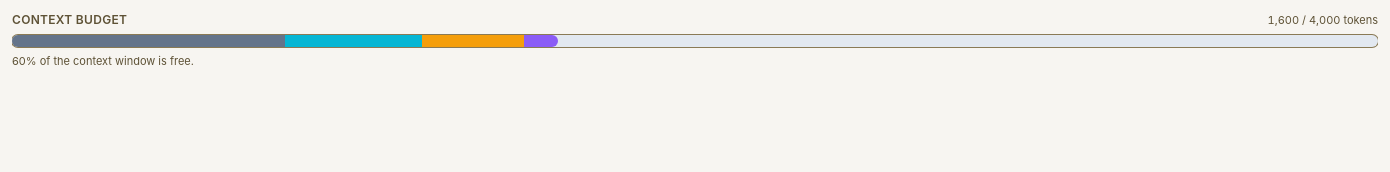
Test: TokenBudgetBar (JGF-128) › opens the breakdown card on mouse enter
The width and height of the screenshot is (1390, 172).
Hover over the button with test id "budget-segment-seed" at [149, 40], box [12, 34, 285, 46]
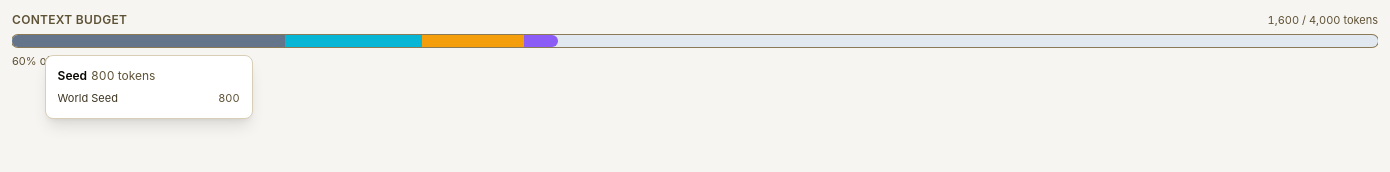
Check: the tooltip with test id "budget-breakdown-seed" shows "World Seed", box [58, 90, 118, 104]
Move the pointer off the button with test id "budget-segment-seed", box [12, 34, 285, 46]
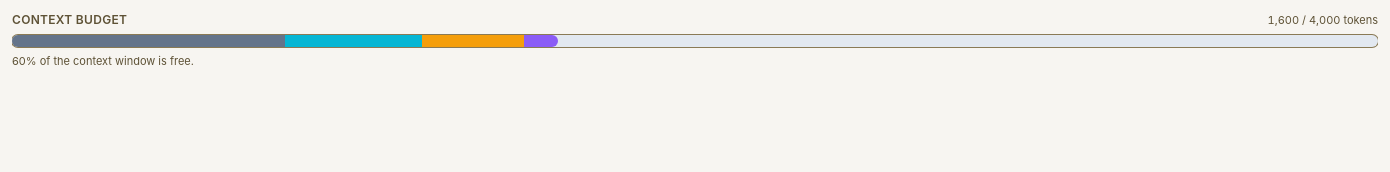
Check: the tooltip with test id "budget-breakdown-seed" is gone
